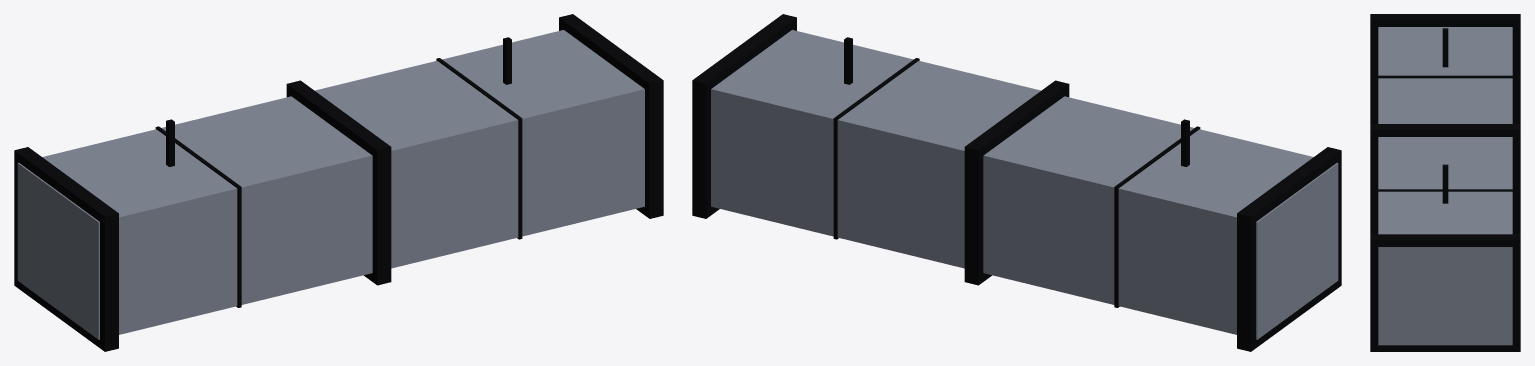
File: SM_Duct_Straight_2m.glb
3 views of the same model, side by side, from view 1: azimuth 30°, elevation 25°; view 2: azimuth 150°, elevation 25°; view 3: azimuth 270°, elevation 25° (orthographic). The views are drawn at different scales.
Parts seen in each view (by area): view 1: SM_Duct_Straight_2m-col; view 2: SM_Duct_Straight_2m-col; view 3: SM_Duct_Straight_2m-col.
Boxes of the visible parts, left/top/right/bottom form: SM_Duct_Straight_2m-col: left=14, top=14, right=663, bottom=351; SM_Duct_Straight_2m-col: left=692, top=14, right=1341, bottom=351; SM_Duct_Straight_2m-col: left=1370, top=14, right=1520, bottom=351.
Bounding box in the file's own units: 2 × 0.58 × 0.56.
